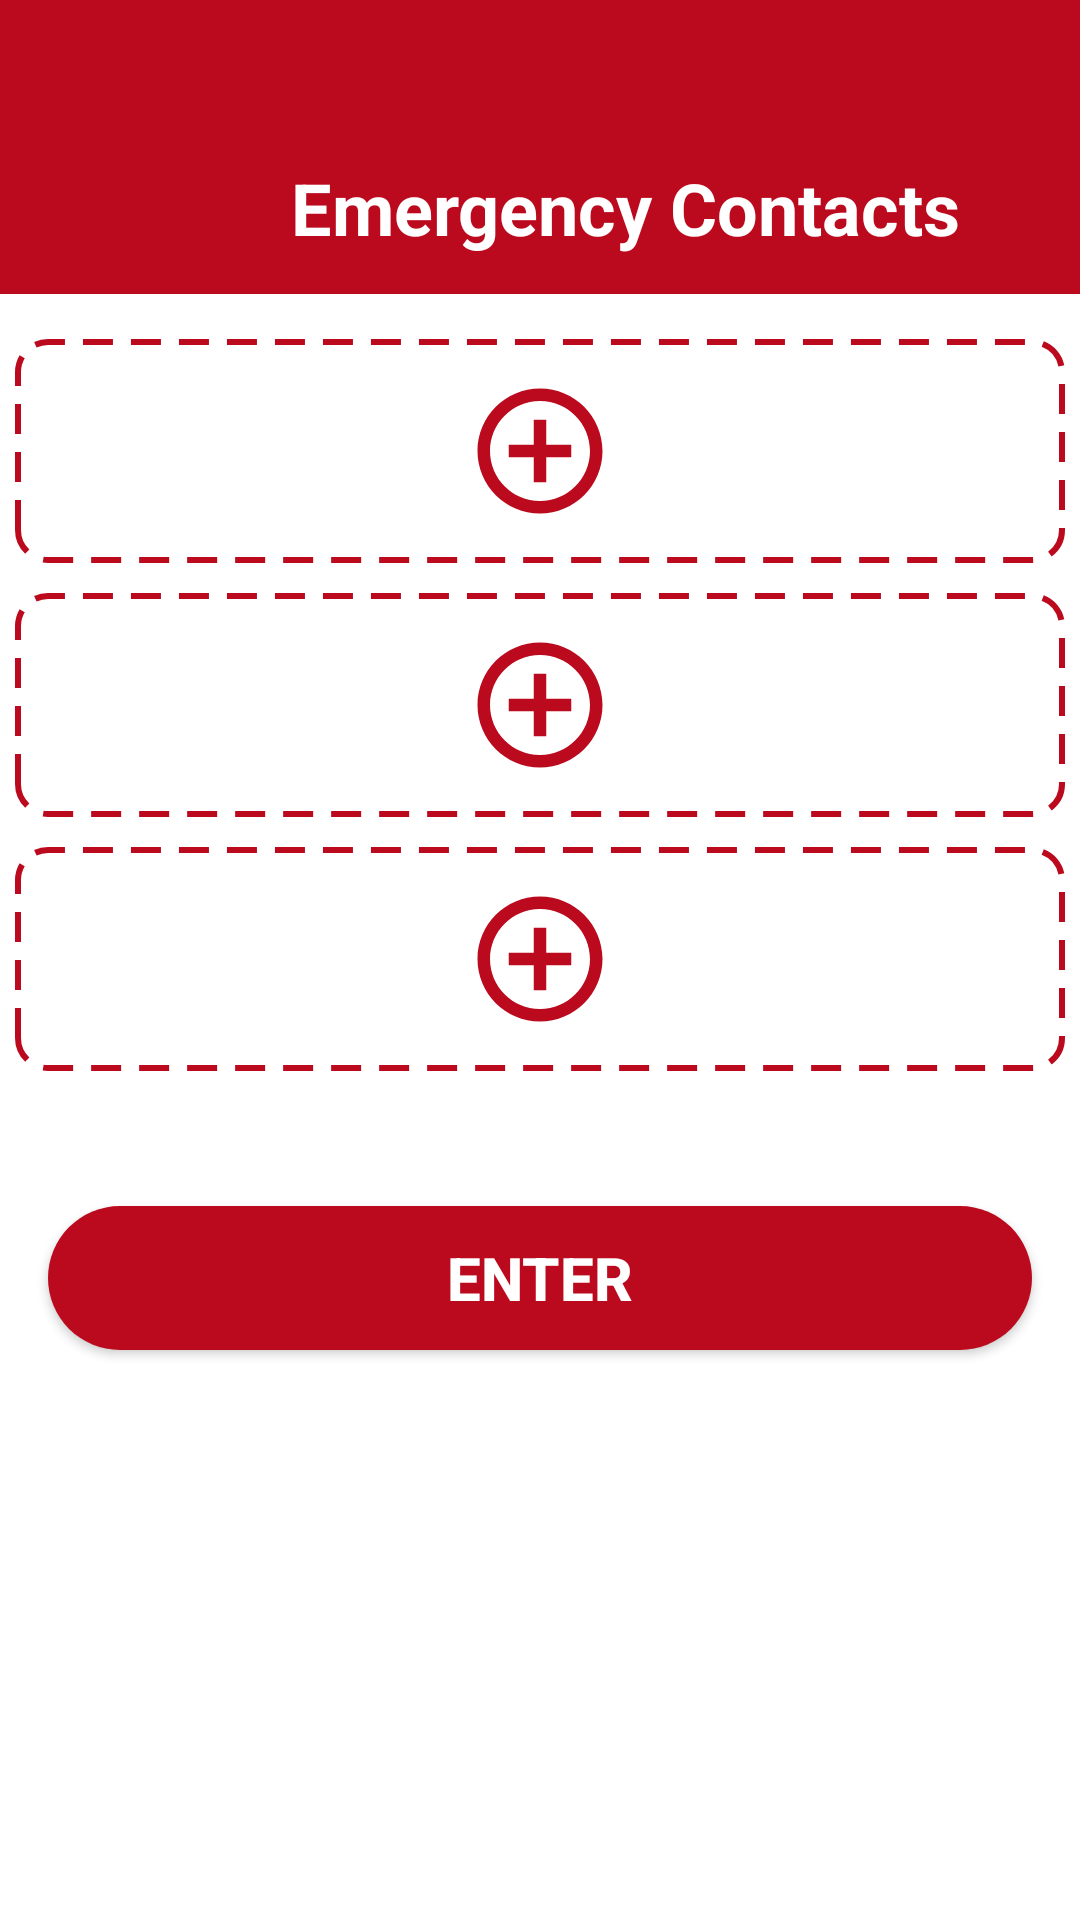

Icon click points for this 1080px x 1920px phone screenshot, format (x=x, y=y):
add circle: (x=540, y=451), (x=540, y=705), (x=540, y=959)
